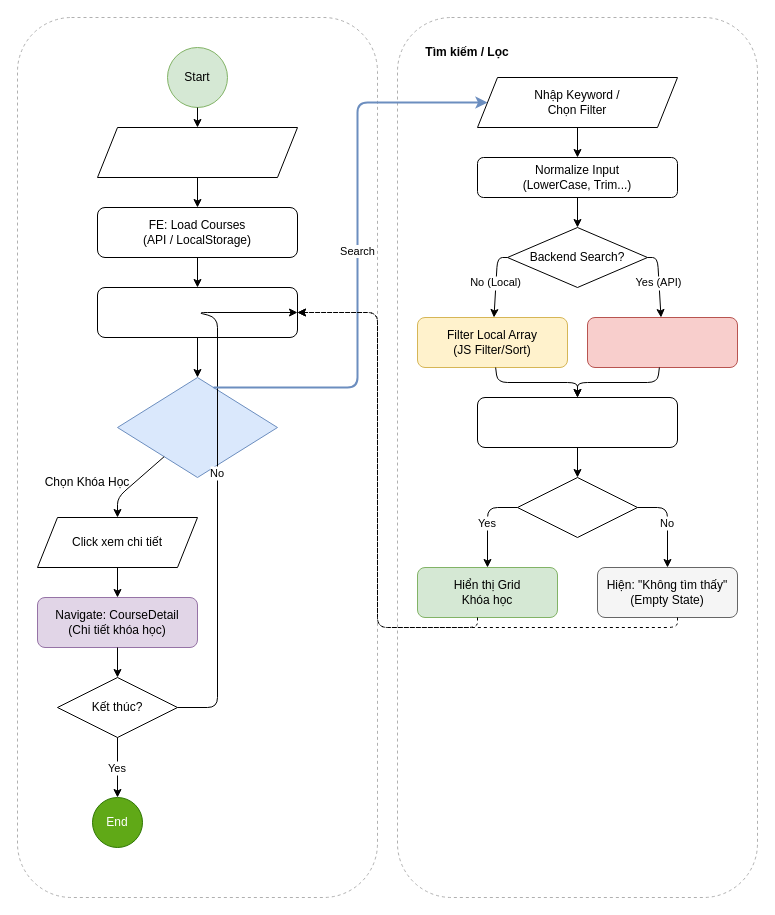
The diagram is 775 pixels wide and 915 high, and some of its shapes have lost their labels. Each missing label, with the centre of its shape:
API Call: GET /search (Server-side Filter): the point at 662,342
Có kết quả?: the point at 577,507
Cập nhật Result List: the point at 577,422
Hiển thị Grid & Filter (Update View): the point at 197,312
Mở màn hình Catalog / Danh sách: the point at 197,152
User Action?: the point at 197,427
